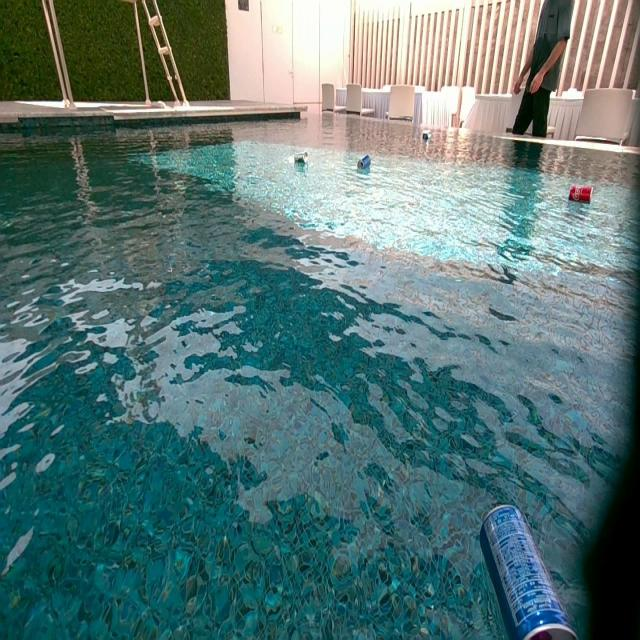Cans: (477, 502, 576, 639), (570, 185, 593, 204), (292, 150, 308, 166), (358, 156, 371, 170), (421, 130, 430, 141)
